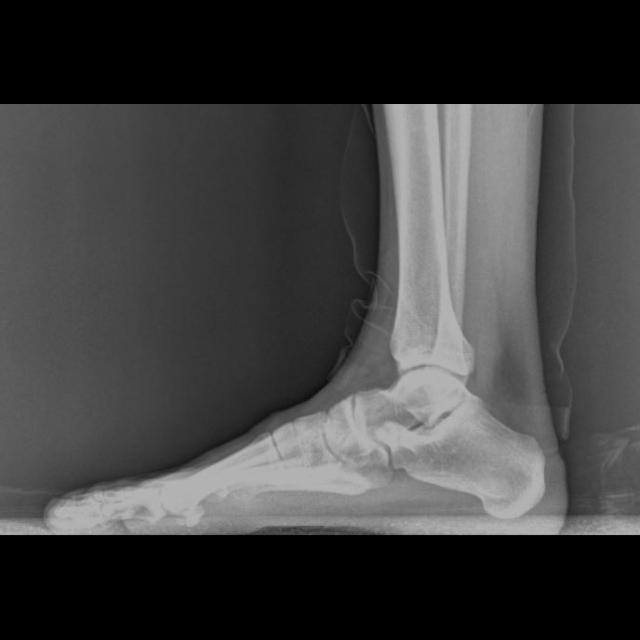a: (376, 389, 544, 519)
b: (326, 394, 378, 467)
c: (159, 433, 293, 528)
